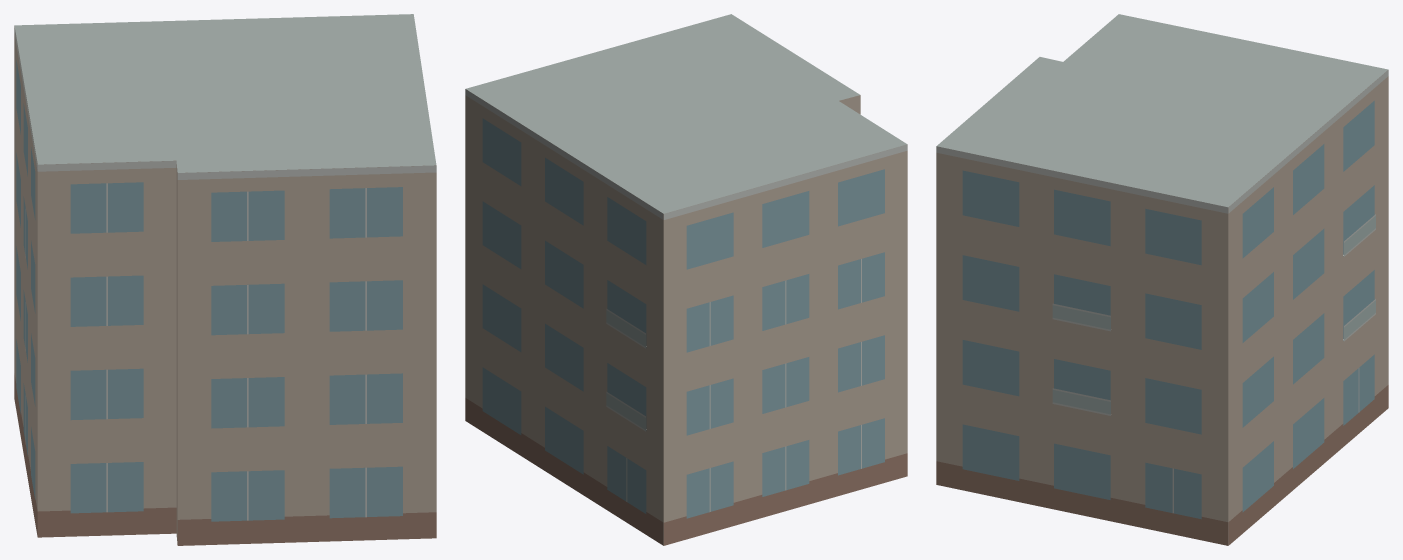
Rendered from survey-upis-32948043.glb.
3 views of the same model, side by side, from view 1: azimuth 30°, elevation 25°; view 2: azimuth 150°, elevation 25°; view 3: azimuth 270°, elevation 25° (orthographic). The views are drawn at different scales.
Visible parts, largest first — view 1: survey-upis-32948043.tmp; view 2: survey-upis-32948043.tmp; view 3: survey-upis-32948043.tmp.
Part boxes in pixels (x1,y1,x2,y2): survey-upis-32948043.tmp: (14,14,436,545); survey-upis-32948043.tmp: (465,14,907,545); survey-upis-32948043.tmp: (936,14,1388,545).
Size of the model in its own units: 15.68 by 12.8 by 15.5.
